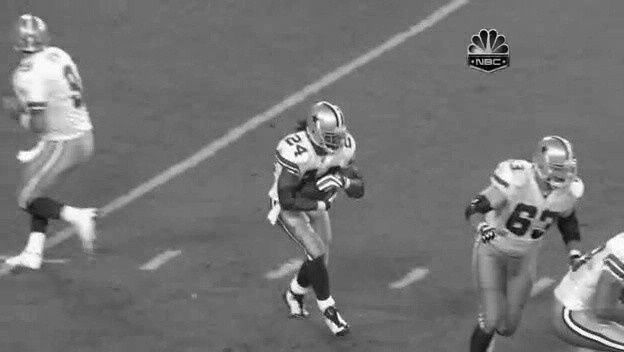person: (308, 100, 347, 150), (307, 100, 346, 150), (309, 100, 348, 150), (308, 99, 347, 149), (308, 101, 347, 151)
target_negative: (97, 205, 267, 254), (68, 129, 102, 207), (384, 327, 427, 341), (54, 102, 565, 103), (586, 333, 621, 341), (207, 246, 210, 285)
